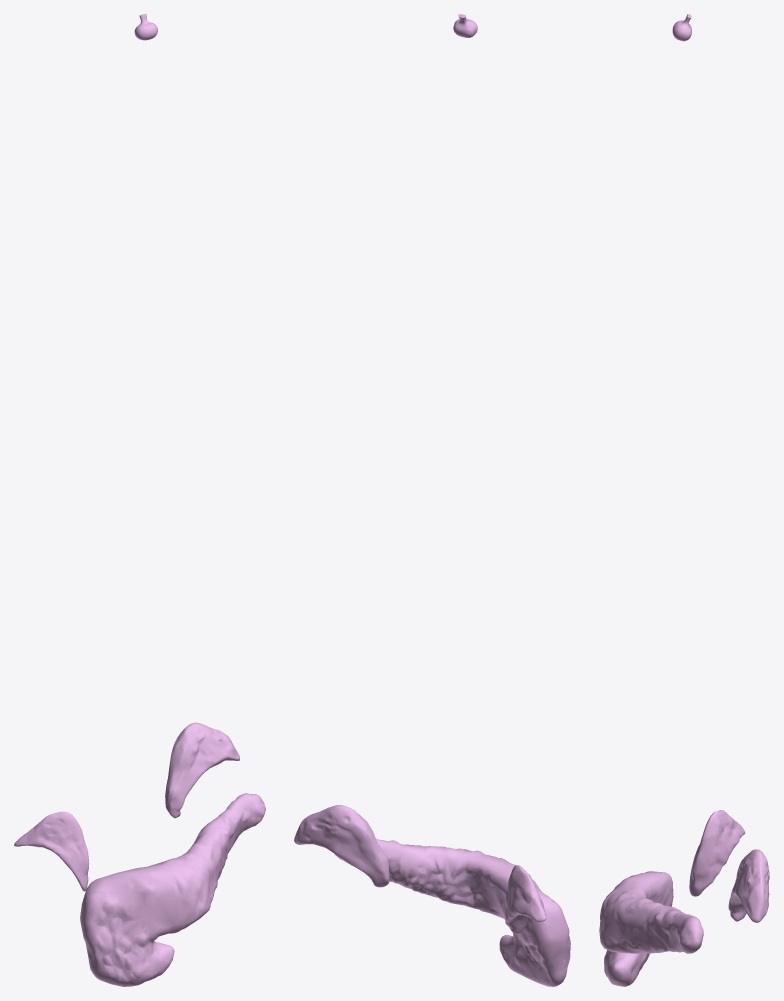
File: male-endocrine.glb
3 views of the same model, side by side, from view 1: azimuth 30°, elevation 25°; view 2: azimuth 150°, elevation 25°; view 3: azimuth 270°, elevation 25° (orthographic). The views are drawn at different scales.
Visible parts, largest first — view 1: FJ1895, FJ2629, FJ3129, FJ3130; view 2: FJ1895, FJ2629, FJ3129, FJ3130; view 3: FJ1895, FJ2629, FJ3130, FJ3129.
Part boxes in pixels (box(x1,y1,x2,y2)): FJ1895: box(80, 793, 265, 986); FJ2629: box(82, 793, 263, 986); FJ3129: box(165, 722, 239, 818); FJ3130: box(14, 811, 89, 891); FJ1895: box(334, 838, 570, 986); FJ2629: box(340, 840, 570, 986); FJ3129: box(294, 805, 389, 887); FJ3130: box(505, 865, 546, 933); FJ1895: box(599, 871, 703, 986); FJ2629: box(599, 872, 703, 983); FJ3130: box(689, 810, 745, 896); FJ3129: box(728, 849, 769, 922).
Size of the model in its own units: 0.138 by 0.5312 by 0.0832.
